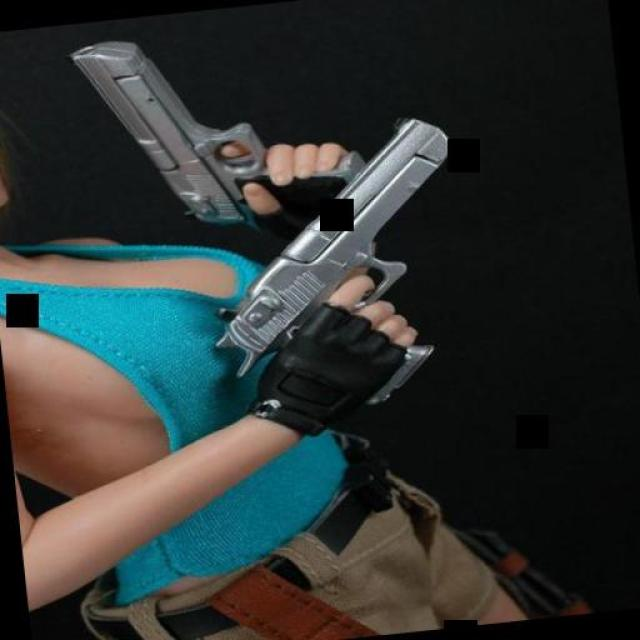gun: (189, 99, 496, 435), (52, 14, 314, 240)
